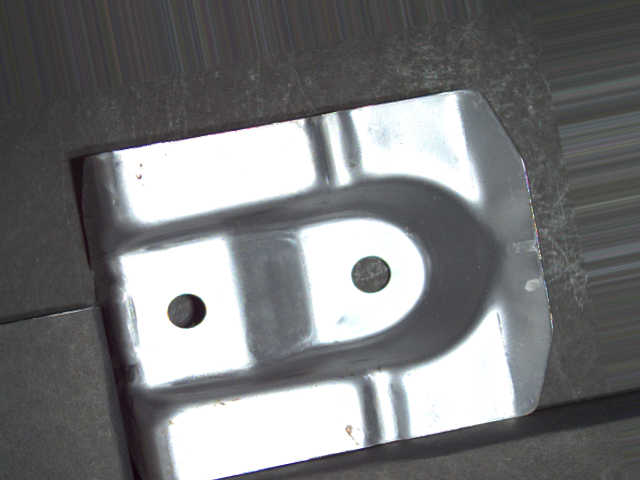defect: (345, 253, 396, 298)
